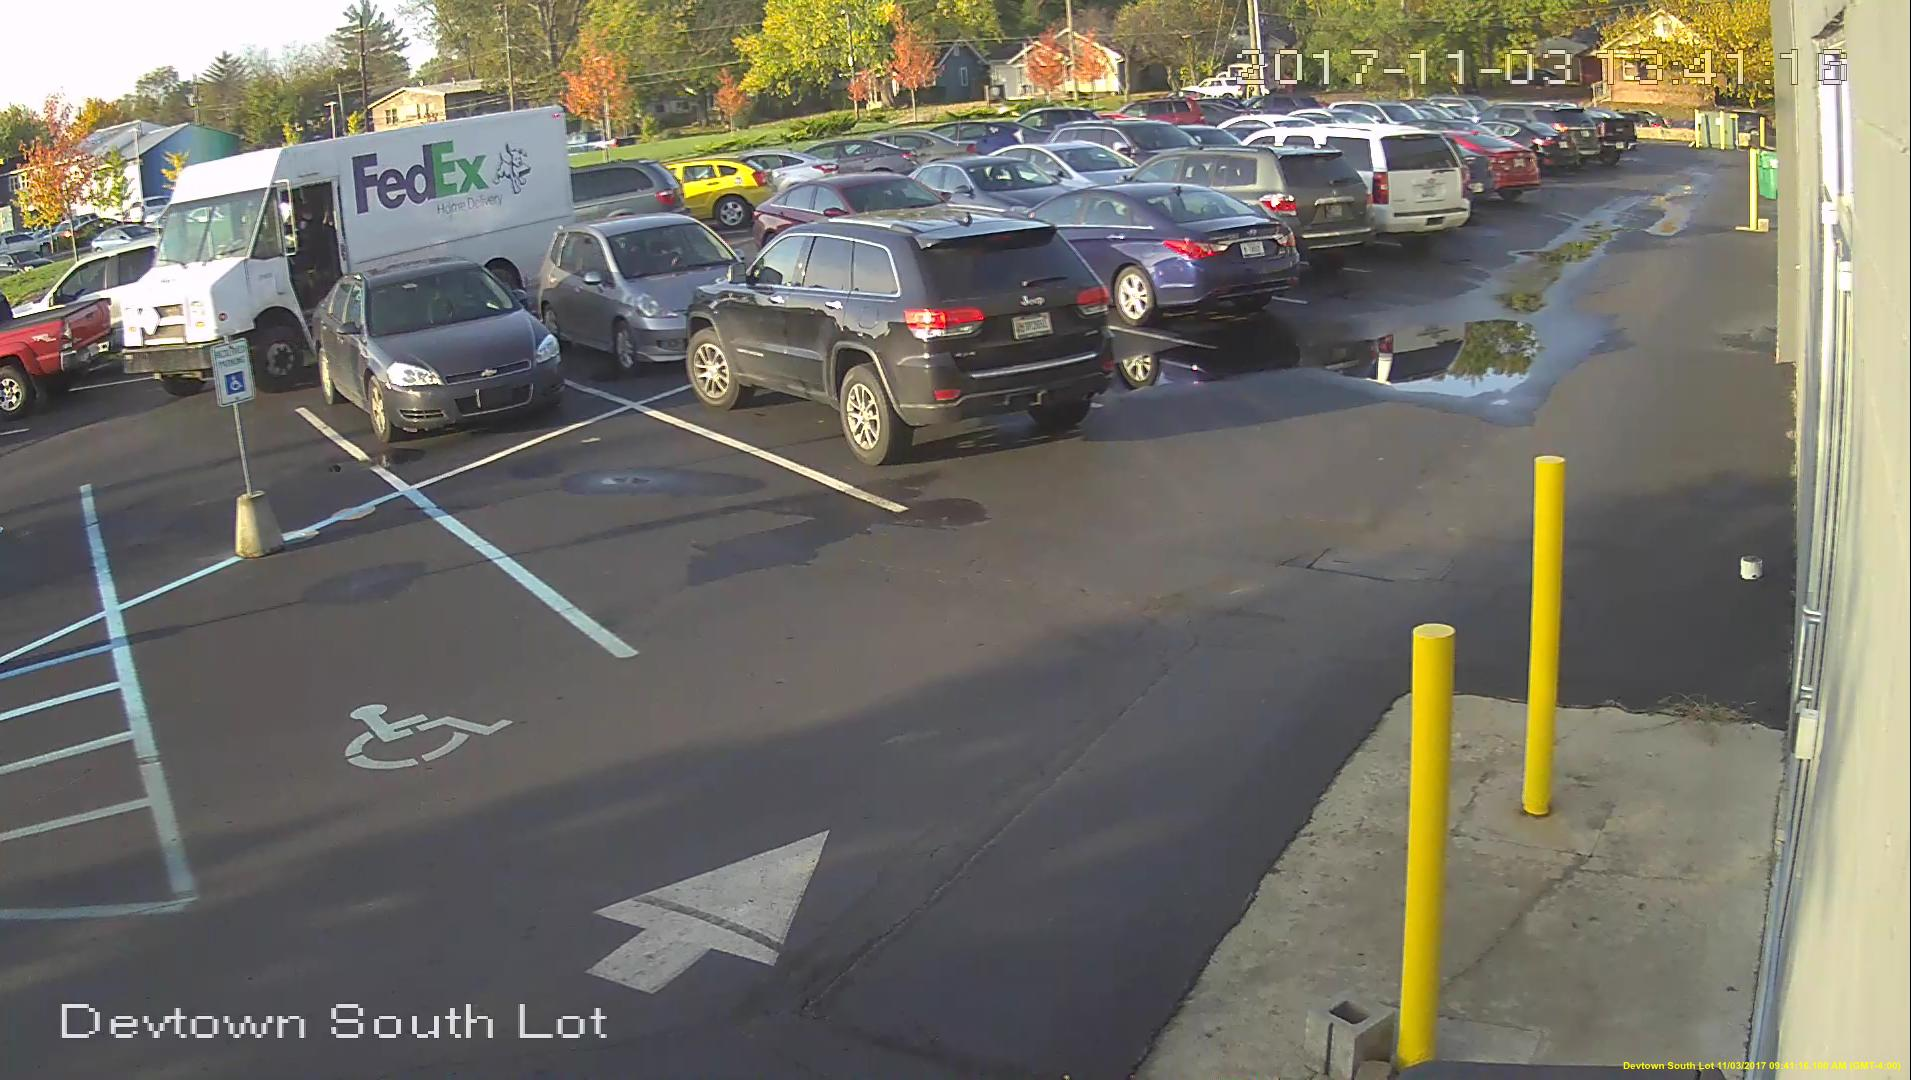fedex_truck: (118, 101, 567, 400)
